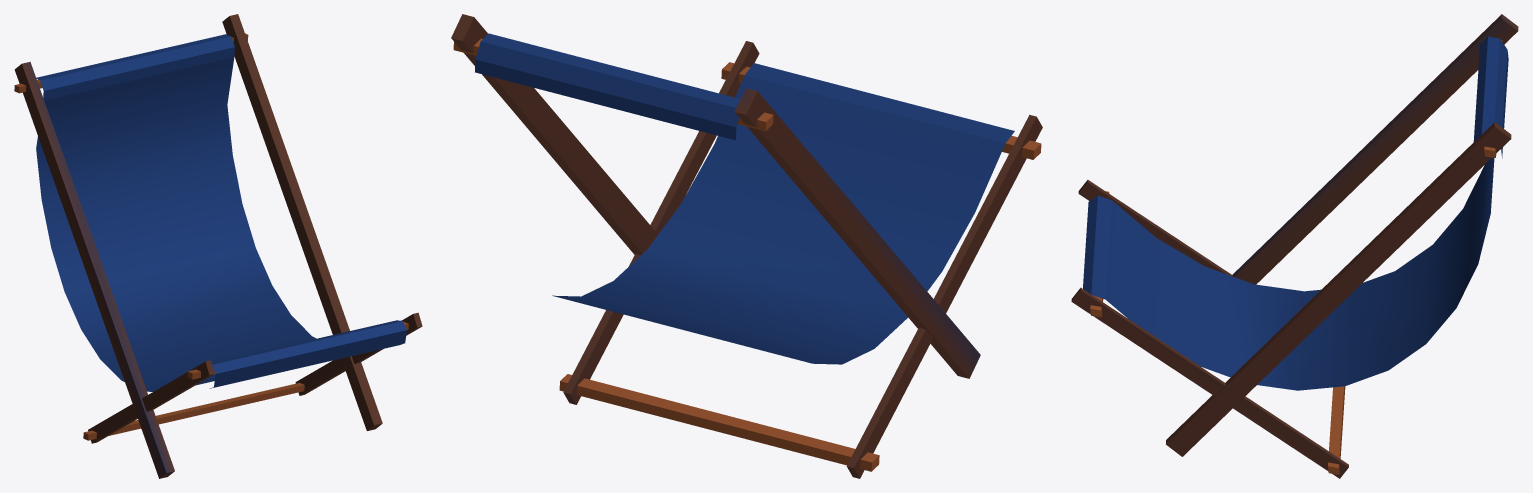
File: SunChair_2.FBX
3 renders of one model, left to right at view 1: azimuth 30°, elevation 25°; view 2: azimuth 150°, elevation 25°; view 3: azimuth 270°, elevation 25°, orthographic. The views are drawn at different scales.
Visible parts, largest first — view 1: lejak2; view 2: lejak2; view 3: lejak2.
Boxes of the visible parts, left/top/right/bottom form: lejak2: left=14, top=14, right=422, bottom=478; lejak2: left=451, top=14, right=1042, bottom=478; lejak2: left=1071, top=14, right=1518, bottom=478.
Bounding box in the file's own units: 7.73 × 10.35 × 11.8.
